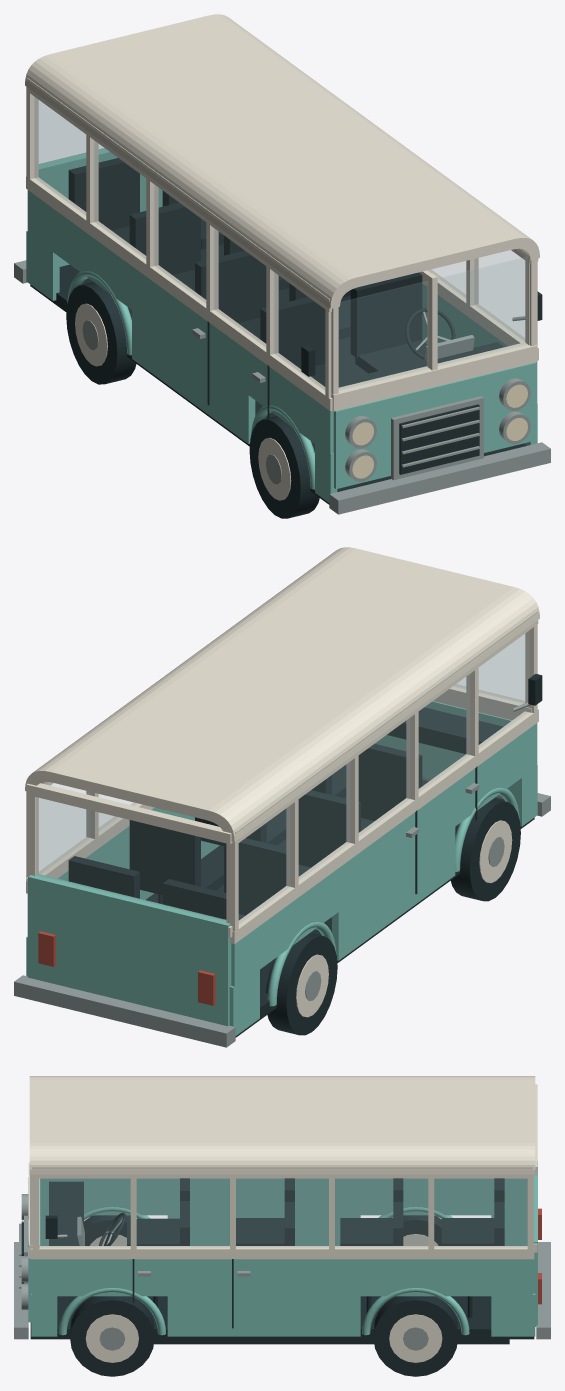
The model's file is bus.glb.
3 renders of one model, top to bottom at view 1: azimuth 30°, elevation 25°; view 2: azimuth 150°, elevation 25°; view 3: azimuth 270°, elevation 25°, orthographic. The views are drawn at different scales.
Parts seen in each view (by area): view 1: roof, window.side (×7), seat.back (×5), windscreen (×2), side.upper (×2), side.lower (×3), window.lower-rail (×2), nose, window.pillar (×6), wheel.1.spin, wheel.0.spin, bumper (+12 smaller); view 2: roof, window.side (×6), rear.panel, seat.back (×6), rear.window, side.upper (×2), side.lower (×3), window.lower-rail (×2), window.pillar (×7), wheel.0.spin, wheel.1.spin, bumper (+9 smaller); view 3: roof, side.upper (×2), window.side (×5), side.lower (×5), window.lower-rail (×2), seat.cushion (×4), wheel.2.spin, wheel.3.spin, window.upper-rail, floor, retro-minibus, window.pillar (×6) (+8 smaller).
Part boxes in pixels (box(x1,y1,x2,y2)): roof: box(25, 14, 539, 308); window.side (×7): box(34, 97, 524, 390); seat.back (×5): box(68, 158, 422, 368); windscreen (×2): box(339, 257, 527, 390); side.upper (×2): box(27, 190, 537, 454); side.lower (×3): box(26, 231, 337, 502); window.lower-rail (×2): box(26, 176, 538, 411); nose: box(333, 362, 535, 488); window.pillar (×6): box(26, 87, 331, 401); wheel.1.spin: box(249, 416, 319, 518); wheel.0.spin: box(66, 282, 136, 384); bumper: box(329, 442, 550, 514); roof: box(25, 547, 539, 841); window.side (×6): box(39, 630, 529, 923); rear.panel: box(28, 874, 231, 1026); seat.back (×6): box(68, 743, 422, 919); rear.window: box(36, 797, 225, 921); side.upper (×2): box(27, 723, 537, 987); side.lower (×3): box(229, 765, 537, 1035); window.lower-rail (×2): box(26, 709, 538, 944); window.pillar (×7): box(26, 620, 537, 933); wheel.0.spin: box(266, 933, 337, 1035); wheel.1.spin: box(451, 798, 520, 901); bumper: box(14, 975, 235, 1047); roof: box(29, 1076, 535, 1174); side.upper (×2): box(32, 1178, 532, 1296); window.side (×5): box(39, 1178, 527, 1247); side.lower (×5): box(31, 1214, 535, 1336); window.lower-rail (×2): box(30, 1178, 534, 1259); seat.cushion (×4): box(127, 1218, 494, 1245); wheel.2.spin: box(373, 1296, 457, 1376); wheel.3.spin: box(70, 1296, 154, 1376); window.upper-rail: box(32, 1167, 532, 1178); floor: box(30, 1296, 534, 1339); retro-minibus: box(21, 1194, 469, 1335); window.pillar (×6): box(33, 1174, 533, 1252).
Bounding box in the file's own units: 2.43 × 2.65 × 5.84.
